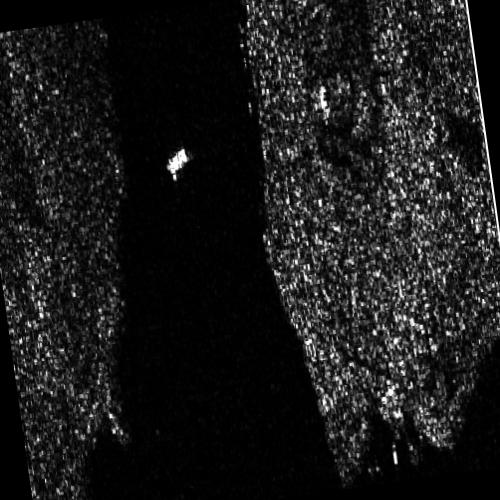ship: (166, 147, 190, 181)
